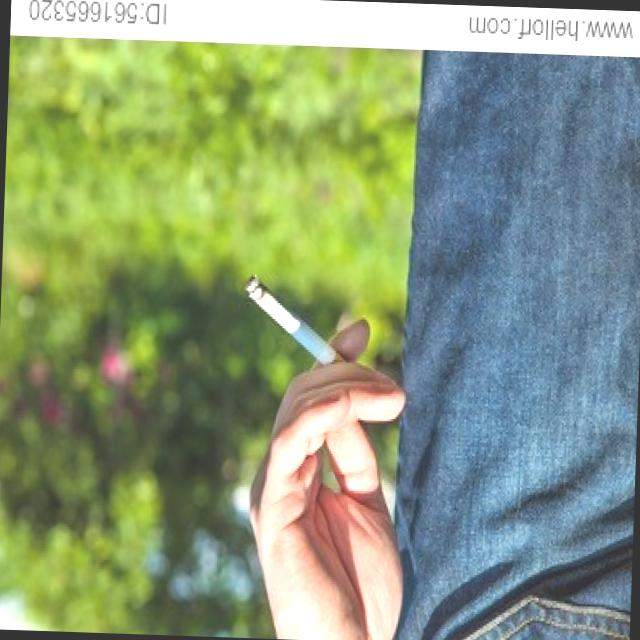smoke: (240, 272, 370, 404)
